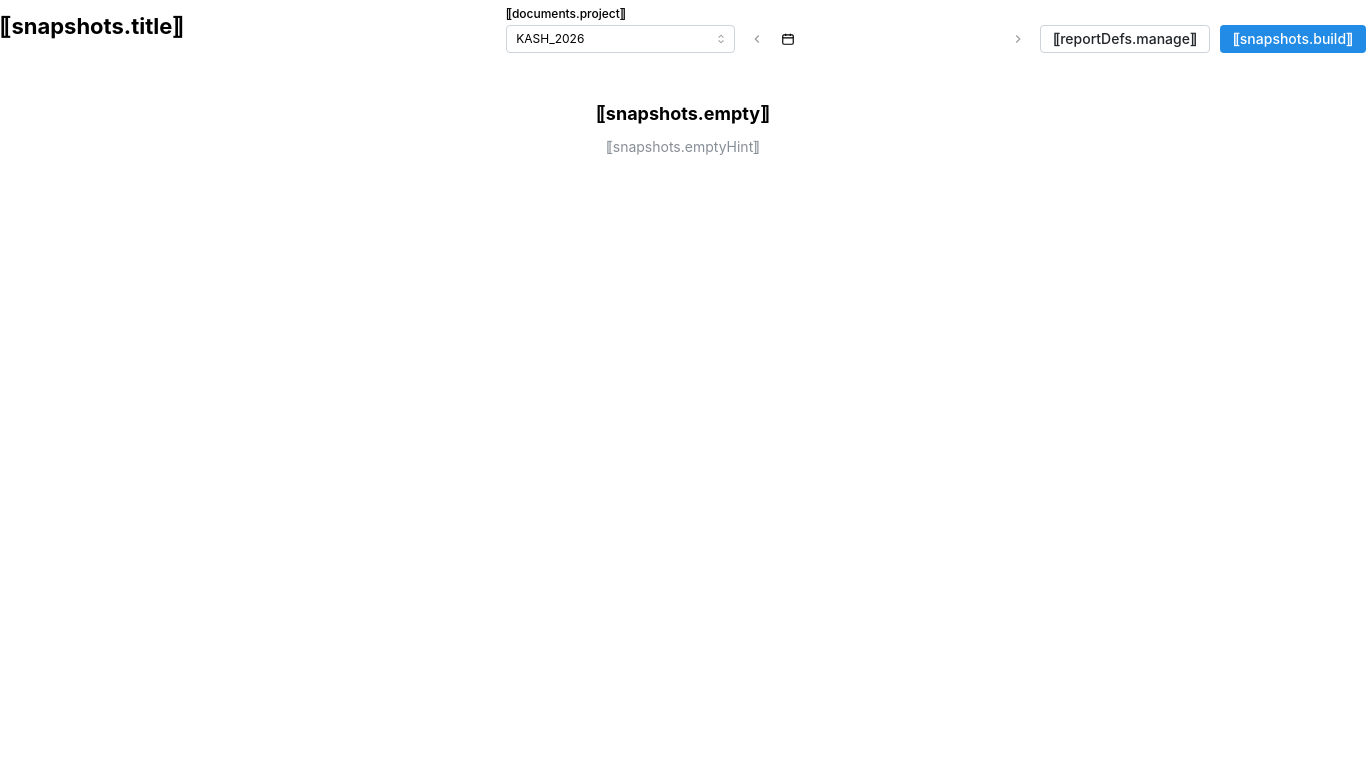
Test case: SnapshotsPage: відмова переліку звітів не виглядає як «звітів немає» › дзеркало: перелік приїхав порожнім — «noPublished» сказано, банера немає
Step 1. Click the button "⟦snapshots.build⟧" → (1293,39), box [1220,25,1365,53]
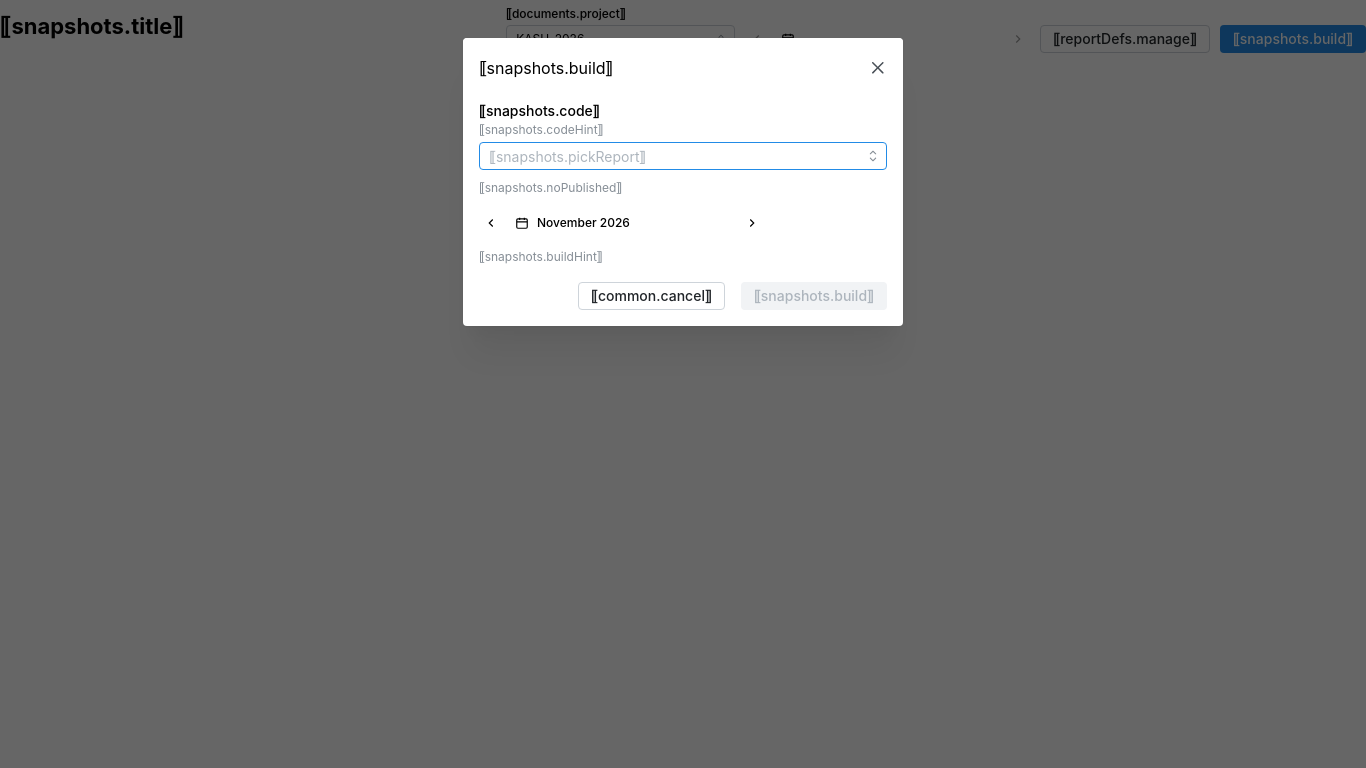
Result: the text "⟦snapshots.noPublished⟧" is shown at [479,181,622,196]
